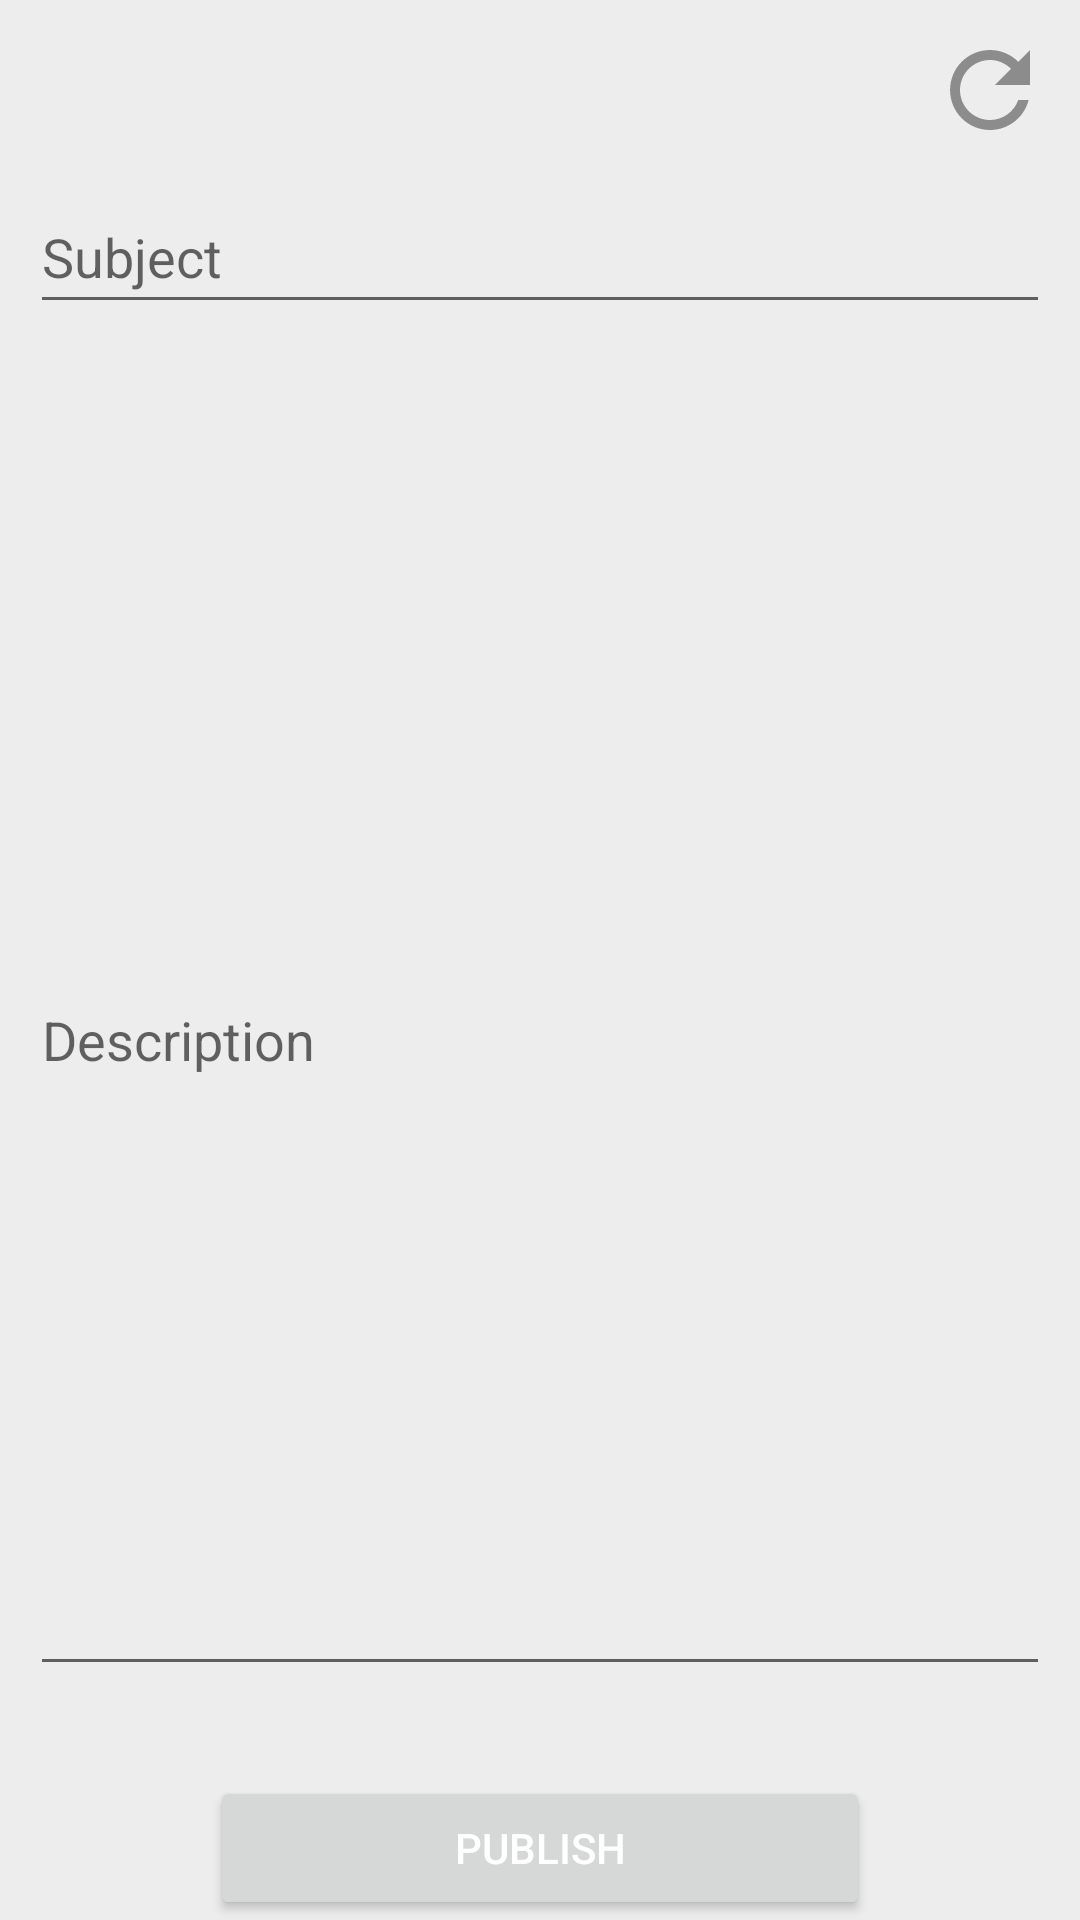

Icons on this 1080 × 1920 Android screen, each with the point to tap as (x,y):
refresh: (990,90)
